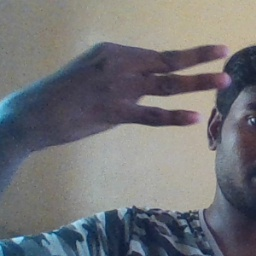K: (30, 42, 234, 138)
